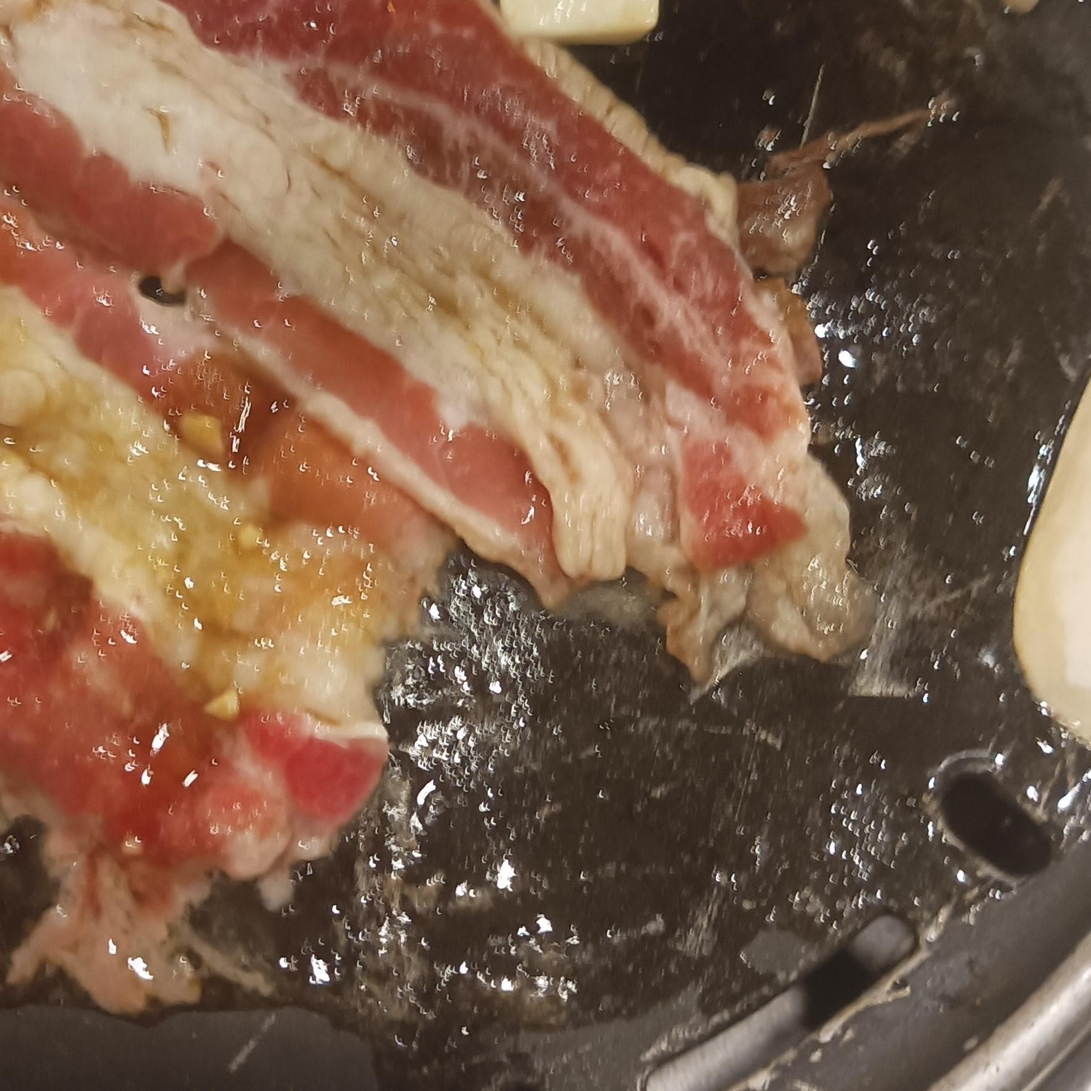Undercooked: (0, 0, 874, 689), (0, 291, 445, 985)
